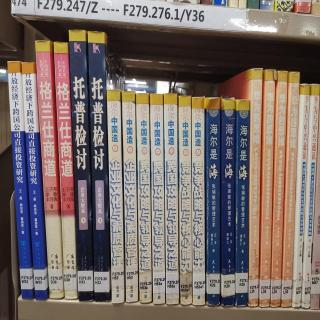book-spine: (33, 39, 64, 298), (68, 27, 93, 302), (6, 60, 34, 302), (21, 58, 48, 301), (87, 30, 111, 302), (53, 39, 78, 300), (278, 72, 301, 309), (291, 84, 311, 306), (105, 89, 125, 304), (270, 71, 288, 308), (162, 95, 181, 305), (303, 83, 320, 308), (121, 91, 139, 302), (259, 70, 275, 307), (149, 93, 165, 306), (191, 96, 207, 307), (206, 96, 222, 307), (248, 67, 262, 307), (220, 98, 236, 307), (136, 93, 151, 304), (178, 96, 192, 304), (236, 100, 249, 307)
